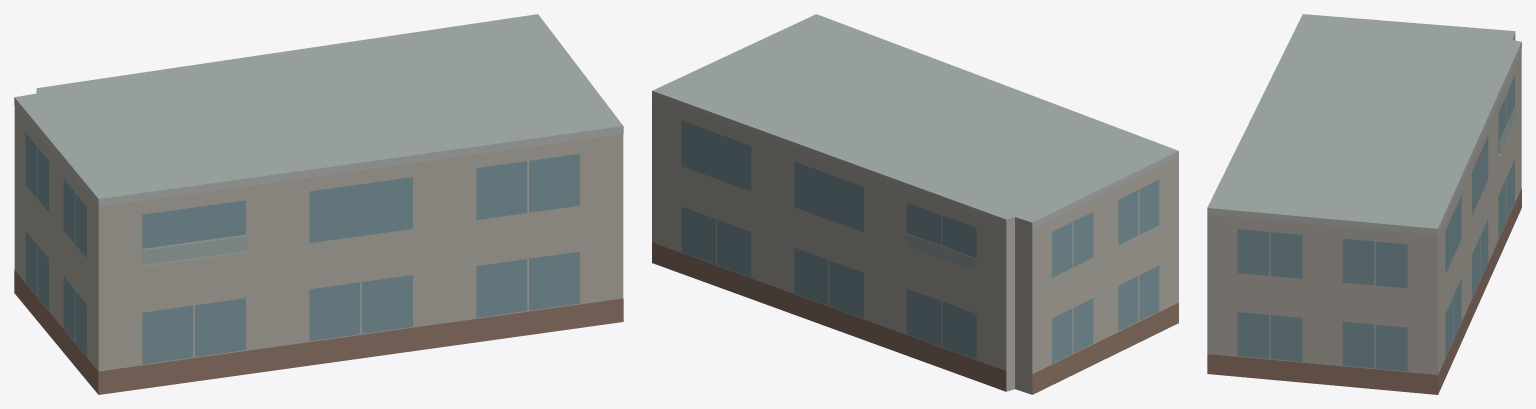
Rendered from survey-upis-32692239.glb.
3 renders of one model, left to right at view 1: azimuth 30°, elevation 25°; view 2: azimuth 150°, elevation 25°; view 3: azimuth 270°, elevation 25°, orthographic. The views are drawn at different scales.
Parts seen in each view (by area): view 1: survey-upis-32692239.tmp; view 2: survey-upis-32692239.tmp; view 3: survey-upis-32692239.tmp.
Boxes of the visible parts, bbox=[...] form: survey-upis-32692239.tmp: bbox=[14, 14, 623, 394]; survey-upis-32692239.tmp: bbox=[652, 14, 1178, 394]; survey-upis-32692239.tmp: bbox=[1207, 14, 1521, 394].
Bounding box in the file's own units: 16.94 × 6.1 × 10.49.
